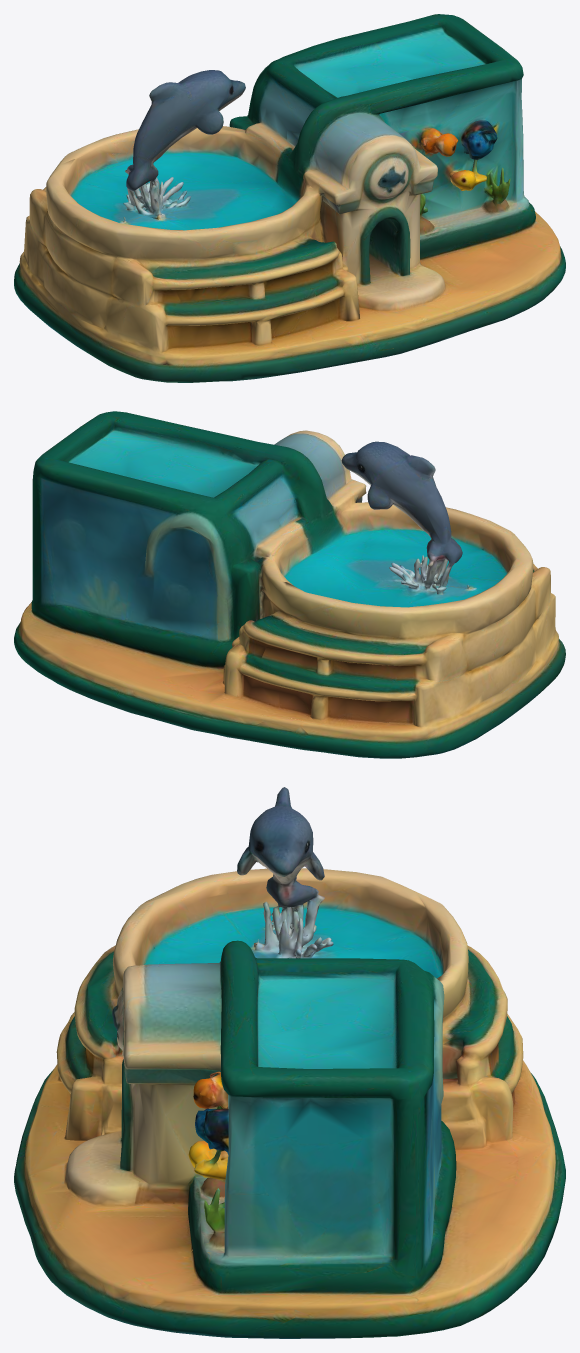
Rendered from facility-aquarium.glb.
3 views of the same model, one above another, from view 1: azimuth 30°, elevation 25°; view 2: azimuth 150°, elevation 25°; view 3: azimuth 270°, elevation 25° (orthographic). The views are drawn at different scales.
Parts seen in each view (by area): view 1: Mesh_0; view 2: Mesh_0; view 3: Mesh_0.
Boxes of the visible parts, x1,y1,x2,y2 form: Mesh_0: (14,14,565,382); Mesh_0: (14,411,565,758); Mesh_0: (14,787,565,1338).
Size of the model in its own units: 2 by 0.9705 by 1.53.
1 material, 1 textured.
